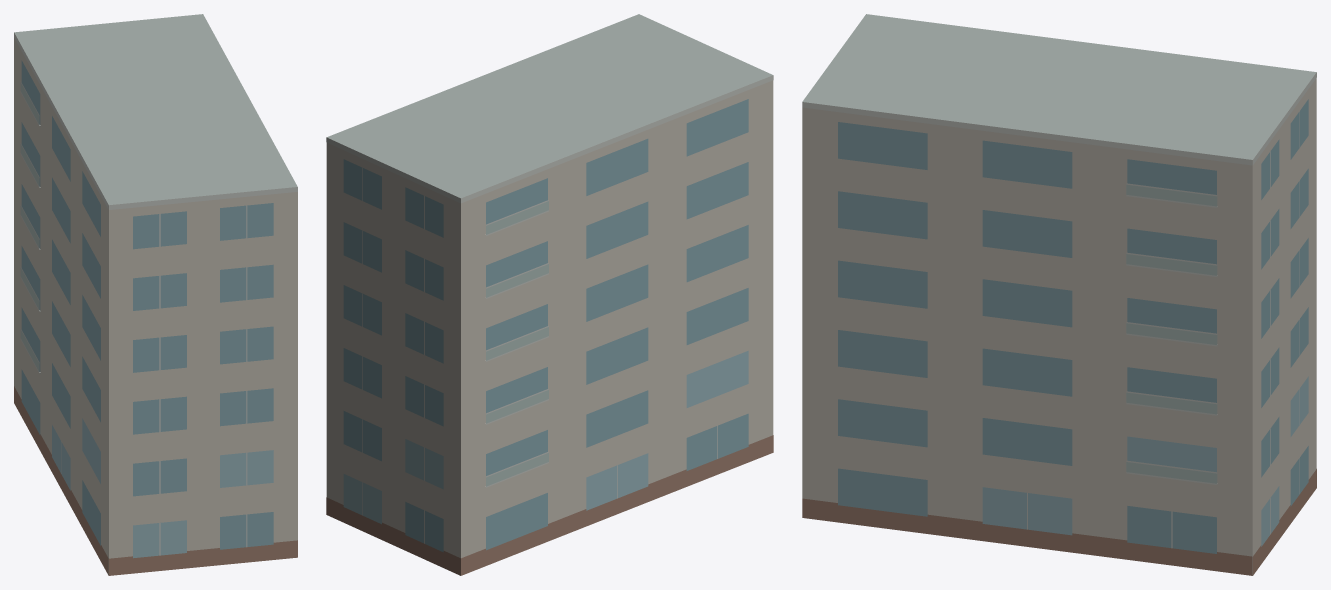
Rendered from survey-upis-32944849.glb.
The picture shows the model from 3 angles, left to right: view 1: azimuth 30°, elevation 25°; view 2: azimuth 150°, elevation 25°; view 3: azimuth 270°, elevation 25°; orthographic projection. The views are drawn at different scales.
Visible parts, largest first — view 1: survey-upis-32944849.tmp; view 2: survey-upis-32944849.tmp; view 3: survey-upis-32944849.tmp.
Part boxes in pixels (left/top/right/bottom): survey-upis-32944849.tmp: left=14, top=14, right=297, bottom=575; survey-upis-32944849.tmp: left=326, top=14, right=773, bottom=575; survey-upis-32944849.tmp: left=802, top=14, right=1316, bottom=575.
Size of the model in its own units: 13.79 by 18.3 by 20.53.
